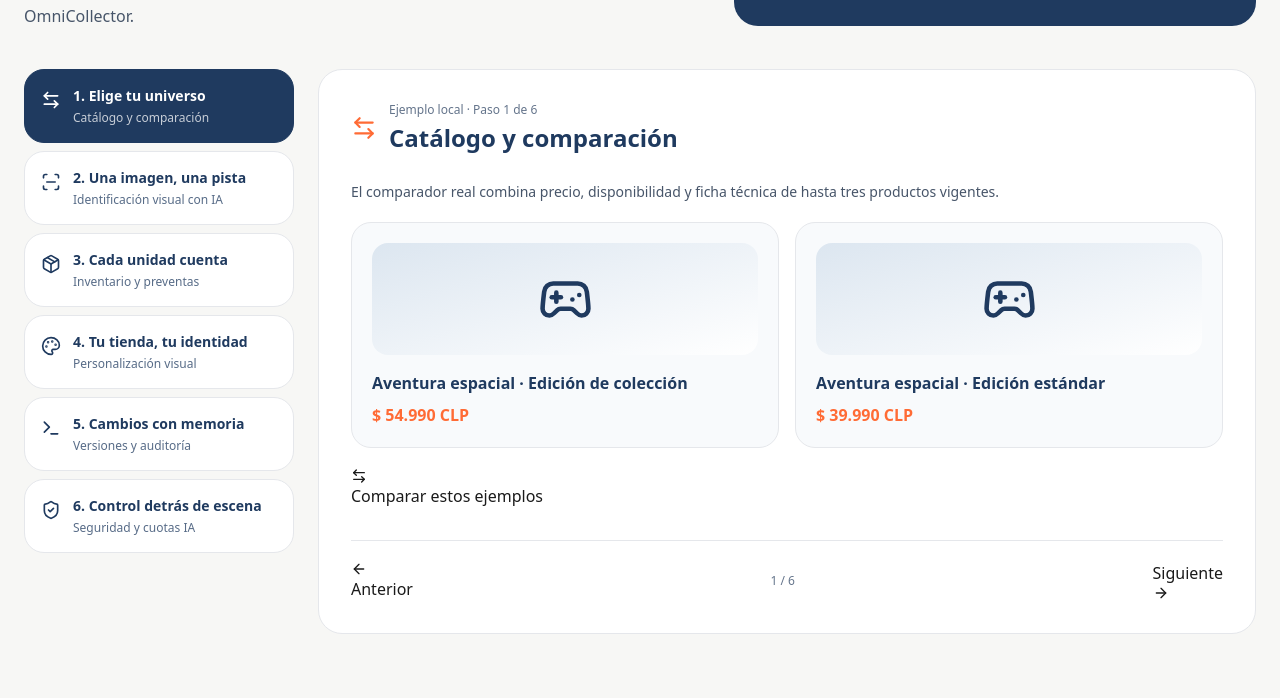
Test: Isolated portfolio tour › shows explicit demo scope and compares local examples without requests
The width and height of the screenshot is (1280, 698).
(page scrolled)
Click the button "Comparar estos ejemplos" at {"x": 447, "y": 488}, box top-left (351, 468), bottom-right (543, 508)
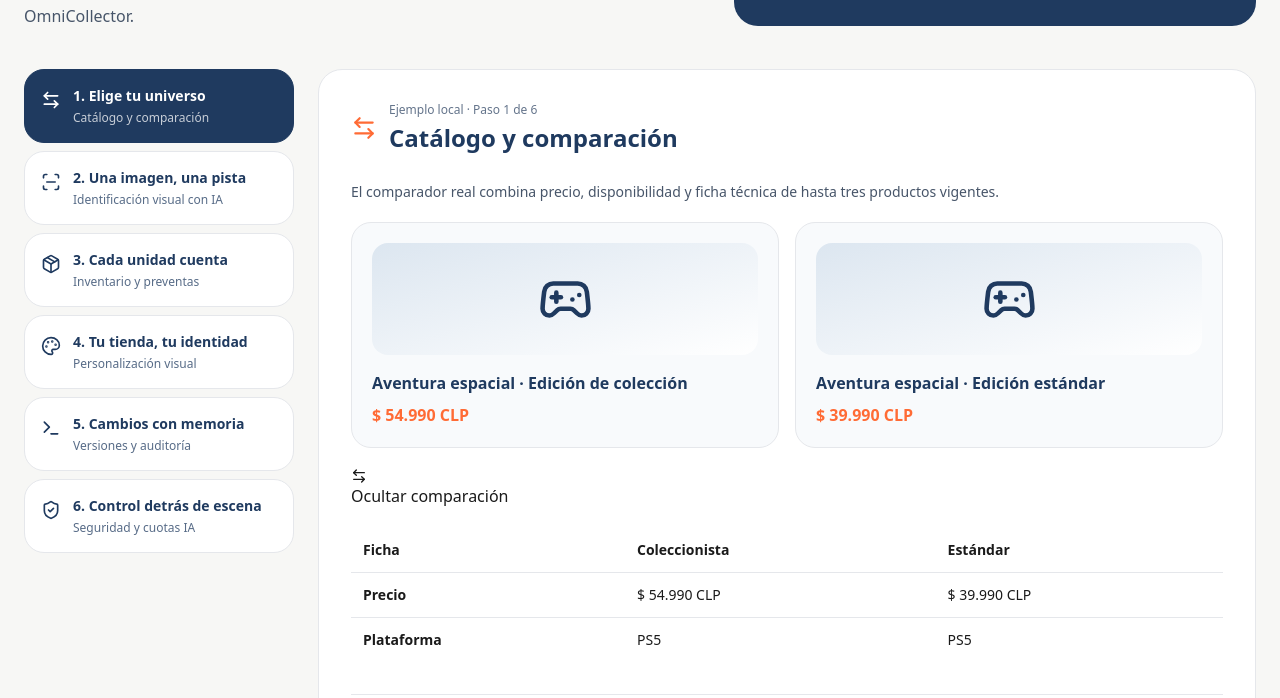
Result: the table shows "54.990" at top-left (637, 585), bottom-right (721, 604)
